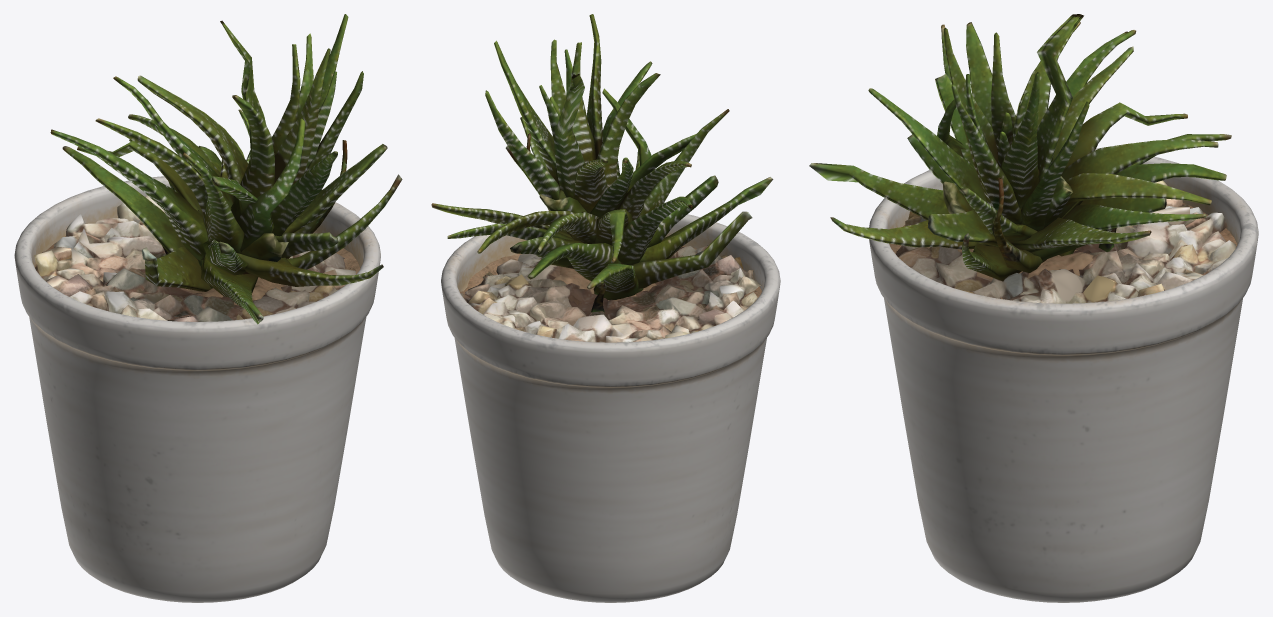
File: potted_plant_04_4k.fbx
The picture shows the model from 3 angles, left to right: view 1: azimuth 30°, elevation 25°; view 2: azimuth 150°, elevation 25°; view 3: azimuth 270°, elevation 25°; orthographic projection. The views are drawn at different scales.
Visible parts, largest first — view 1: potted_plant_04_pot, potted_plant_04_plant, potted_plant_04_ground, potted_plant_04_dirt; view 2: potted_plant_04_pot, potted_plant_04_plant, potted_plant_04_ground, potted_plant_04_dirt; view 3: potted_plant_04_pot, potted_plant_04_plant, potted_plant_04_ground, potted_plant_04_dirt.
Part boxes in pixels (left/top/right/bottom): potted_plant_04_pot: left=14, top=176, right=380, bottom=602; potted_plant_04_plant: left=50, top=14, right=402, bottom=324; potted_plant_04_ground: left=34, top=195, right=356, bottom=321; potted_plant_04_dirt: left=34, top=236, right=360, bottom=305; potted_plant_04_pot: left=441, top=214, right=780, bottom=602; potted_plant_04_plant: left=431, top=14, right=773, bottom=312; potted_plant_04_ground: left=461, top=245, right=761, bottom=342; potted_plant_04_dirt: left=460, top=245, right=761, bottom=304; potted_plant_04_pot: left=869, top=148, right=1258, bottom=602; potted_plant_04_plant: left=809, top=14, right=1231, bottom=281; potted_plant_04_ground: left=896, top=180, right=1236, bottom=303; potted_plant_04_dirt: left=889, top=203, right=1237, bottom=298.
Bounding box in the file's own units: 16.79 × 26.75 × 19.33.
